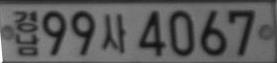0: (168, 9, 195, 55)
4: (139, 9, 166, 57)
6: (199, 9, 227, 56)
7: (227, 8, 256, 57)
9: (69, 9, 95, 56), (41, 9, 67, 54)
경남_V: (13, 9, 40, 56)
사: (101, 13, 127, 53)
